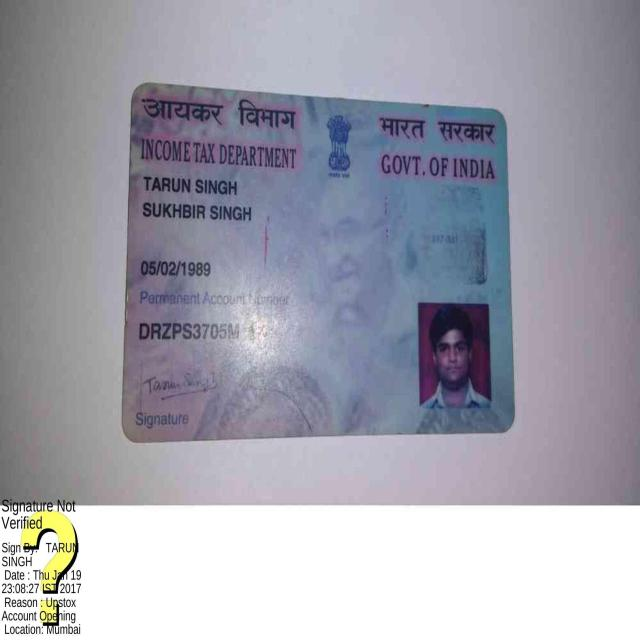pan_card: (122, 82, 516, 443)
